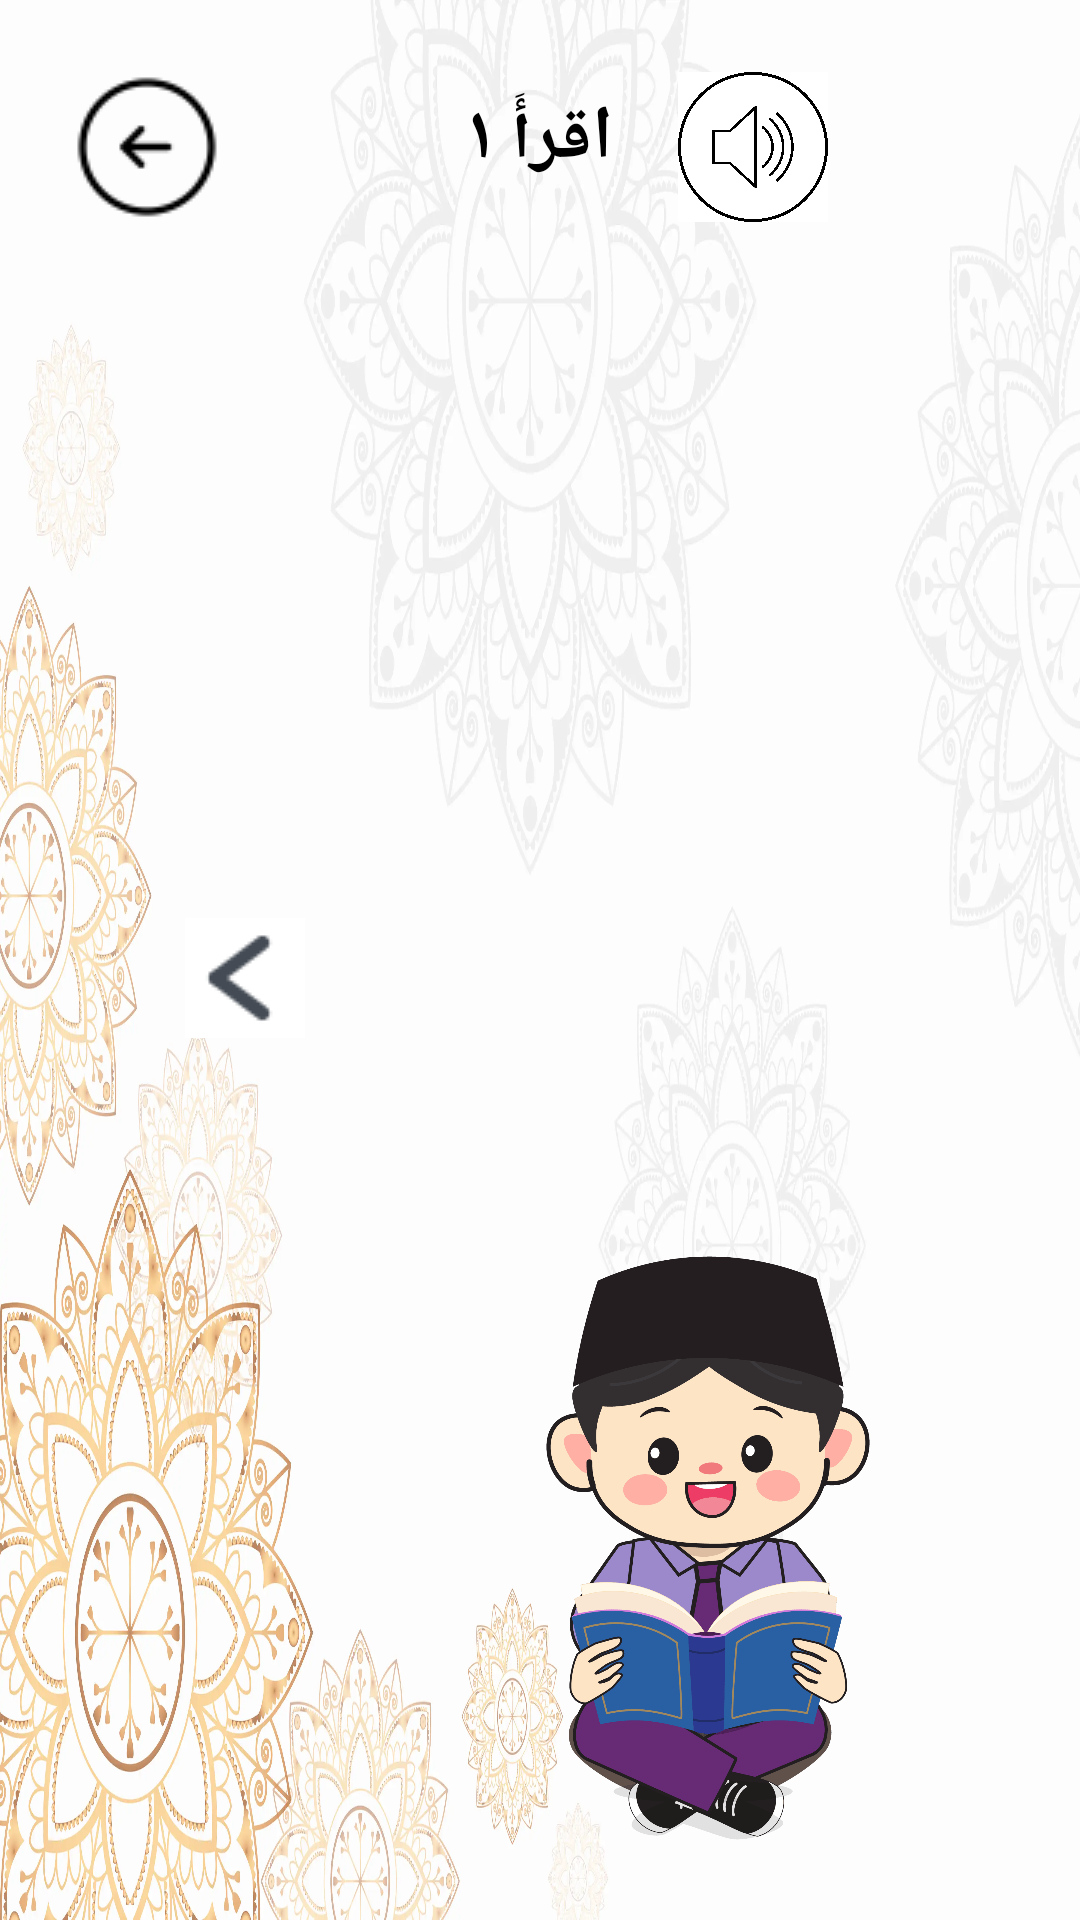

Named icons in this screenshot (1080px x 1920px) and their bounding boxes, [x1=x1, y1=y1, x2=x2, y2=y2]:
back: [x1=77, y1=77, x2=217, y2=217]
back page: [x1=208, y1=935, x2=271, y2=1021]
speaker: [x1=678, y1=72, x2=828, y2=222]
